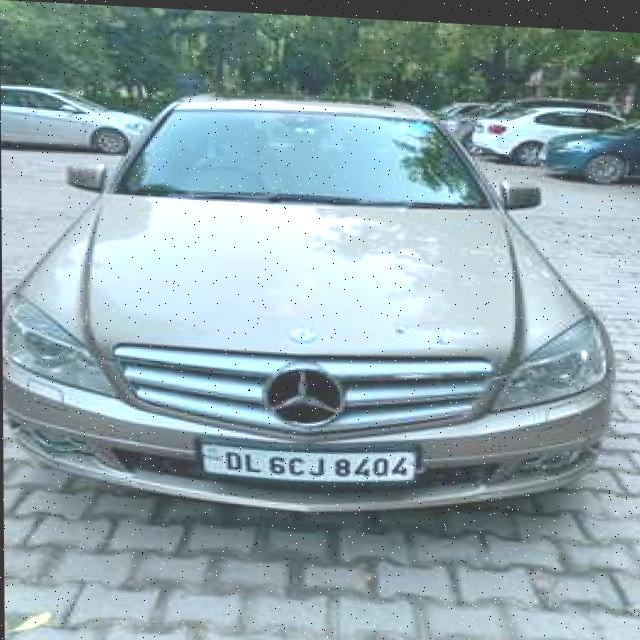plate: (193, 432, 423, 485)
